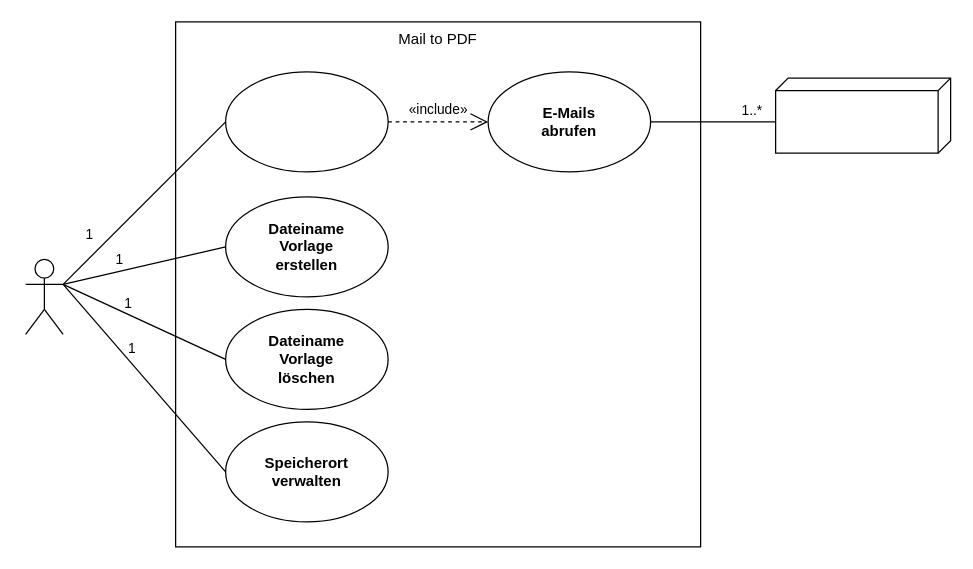
Some shapes in this 973 by 569 pixel diagram are drawn without their labels. The shapes that lost their labels are listed below. From the top down, each one's centre as x and y in pixels, then its label:
At point 306,121: "E-Mails archivieren".
At point 862,115: "E-Mail Server".
At point 43,296: "Nutzer".
